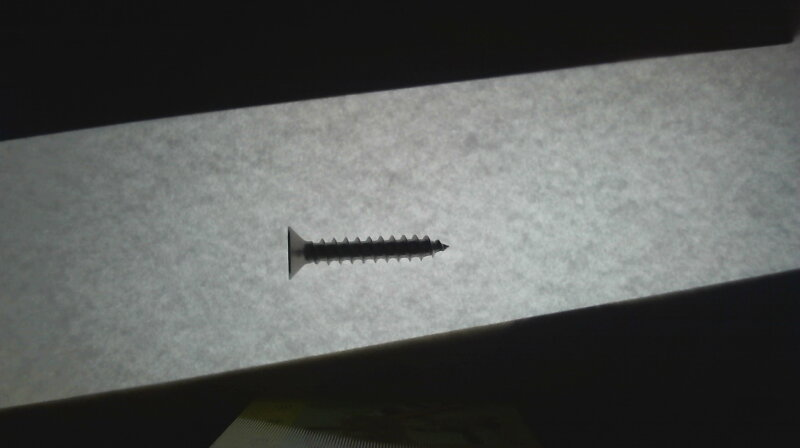S001: (283, 222, 451, 281)
